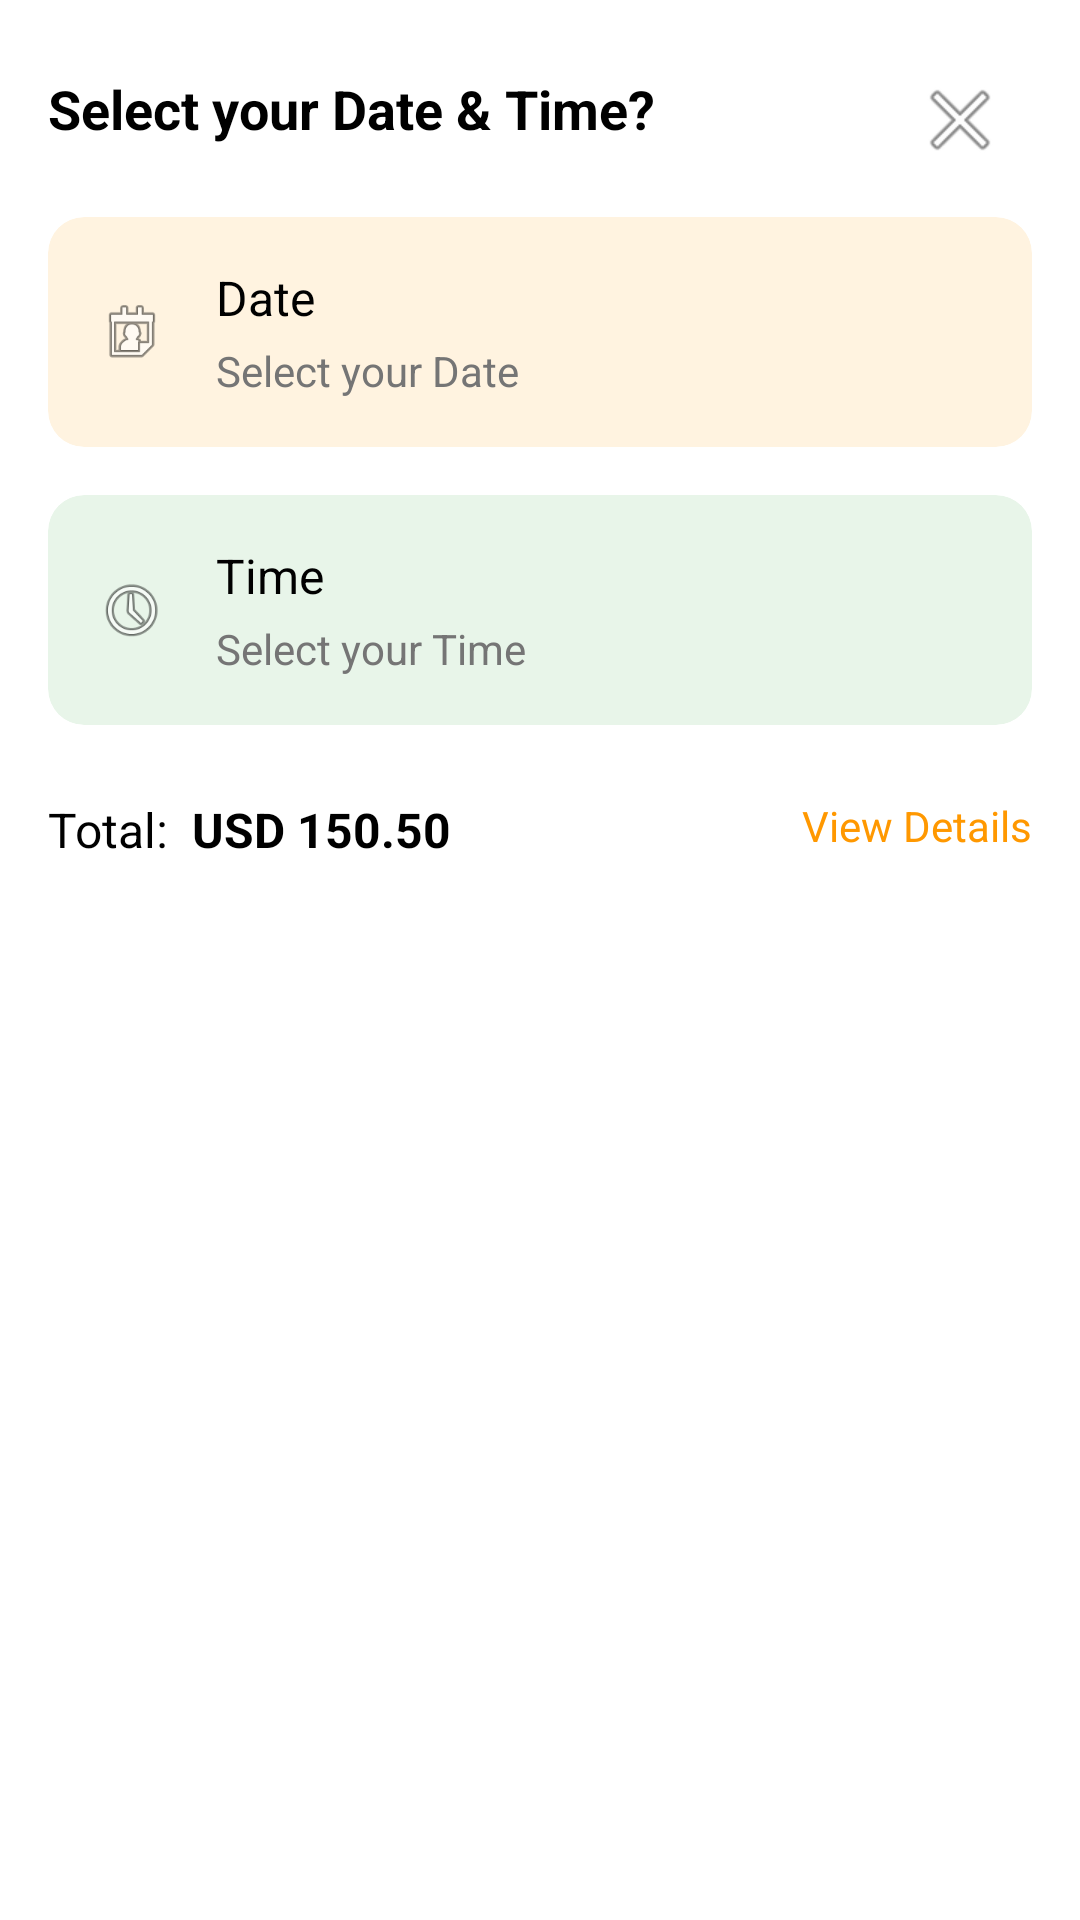

Point at icon controls on the screen. Image size 1080×1920, points as (x=x, y=y).
Calendar: (x=132, y=331)
Clock: (x=131, y=610)
Close: (x=960, y=120)
